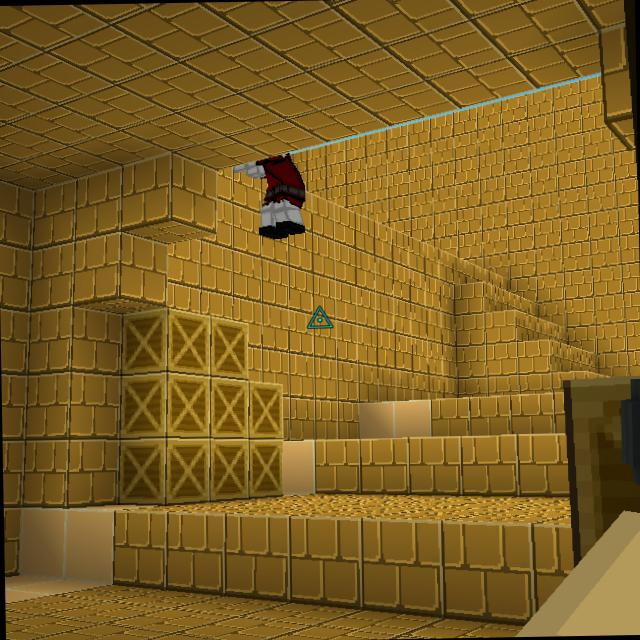enemy: (232, 151, 308, 240)
